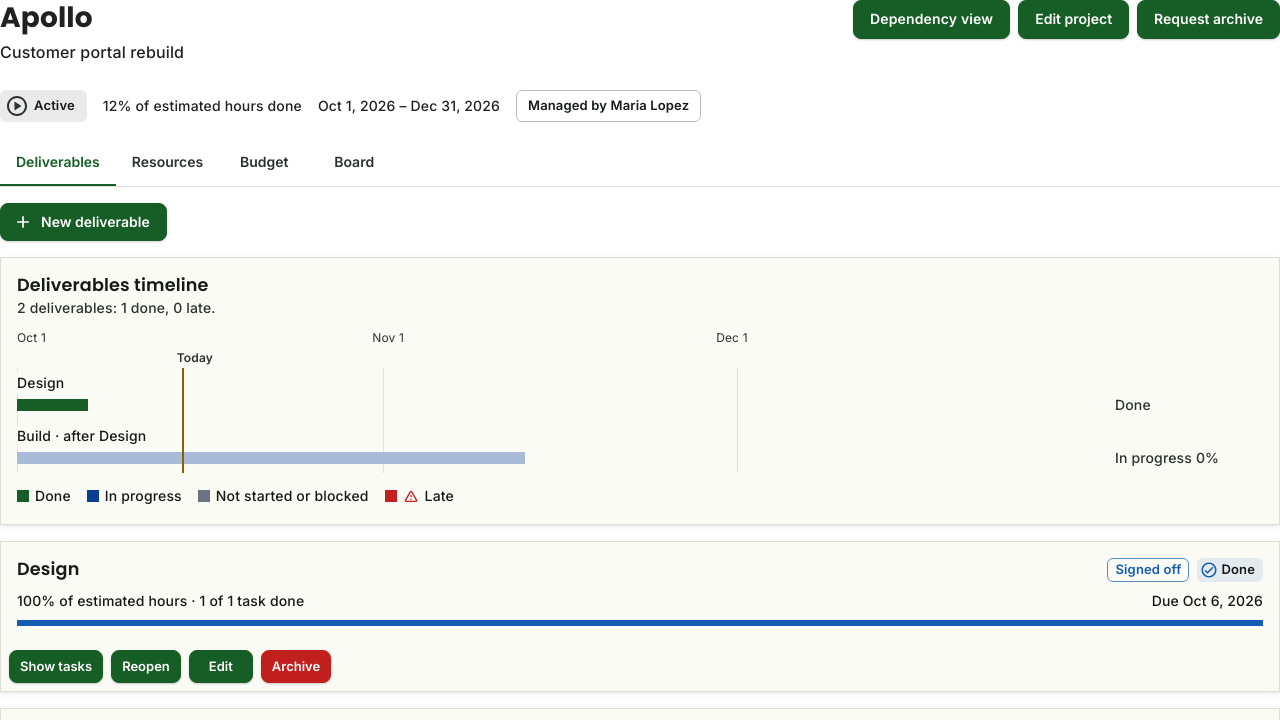
Test: ProjectDetailPage › shows the budget figures
Click the tab "Budget" at (264, 162), box [219,138,309,186]
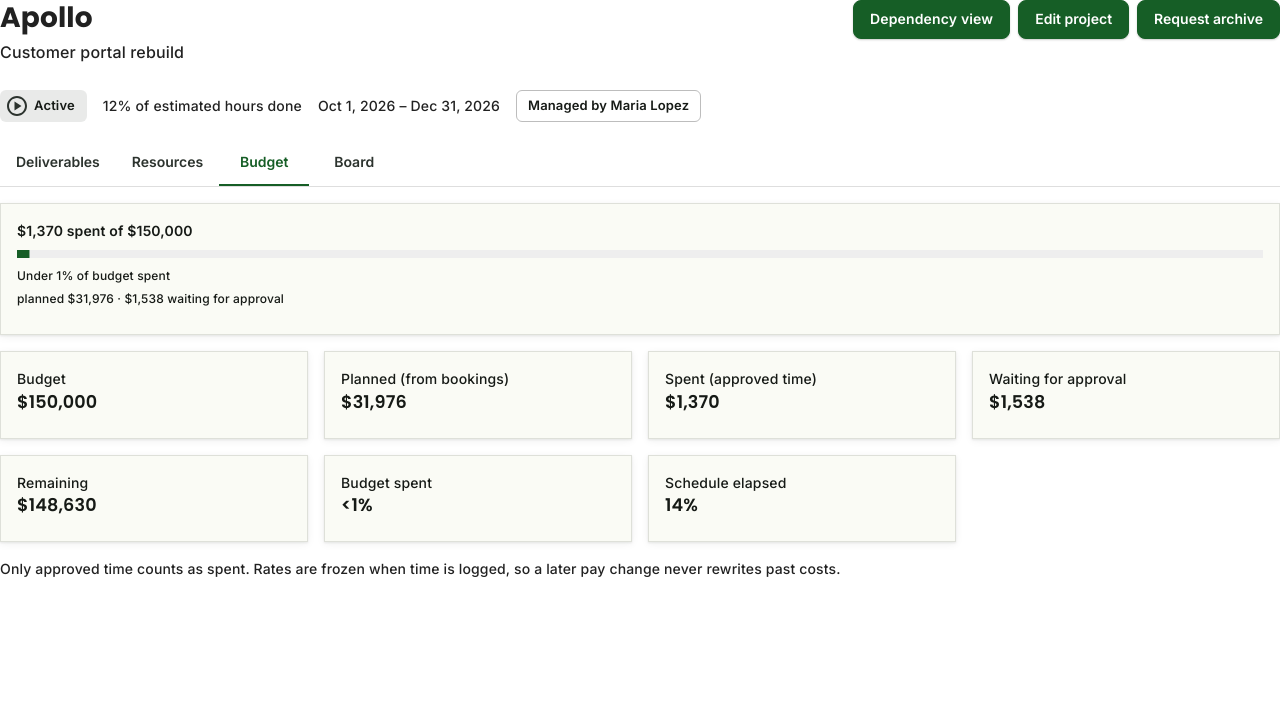
Expected: the text "$1,370 spent of $150,000" is shown, [17,220,193,242]
Expected: the text "$148,630" is shown, [17,493,97,517]
Expected: the text "<1%" is shown, [341,493,373,517]
